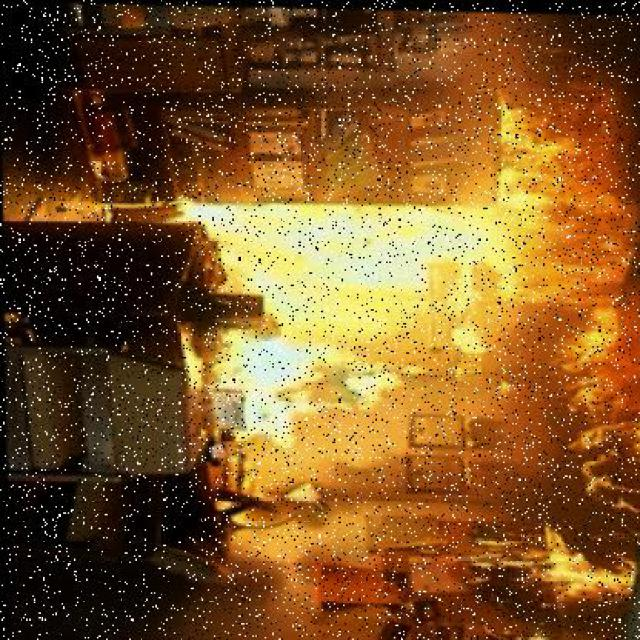fire: (235, 203, 499, 439), (506, 91, 633, 489), (477, 523, 634, 640)
